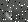person: (7, 10, 12, 20)
